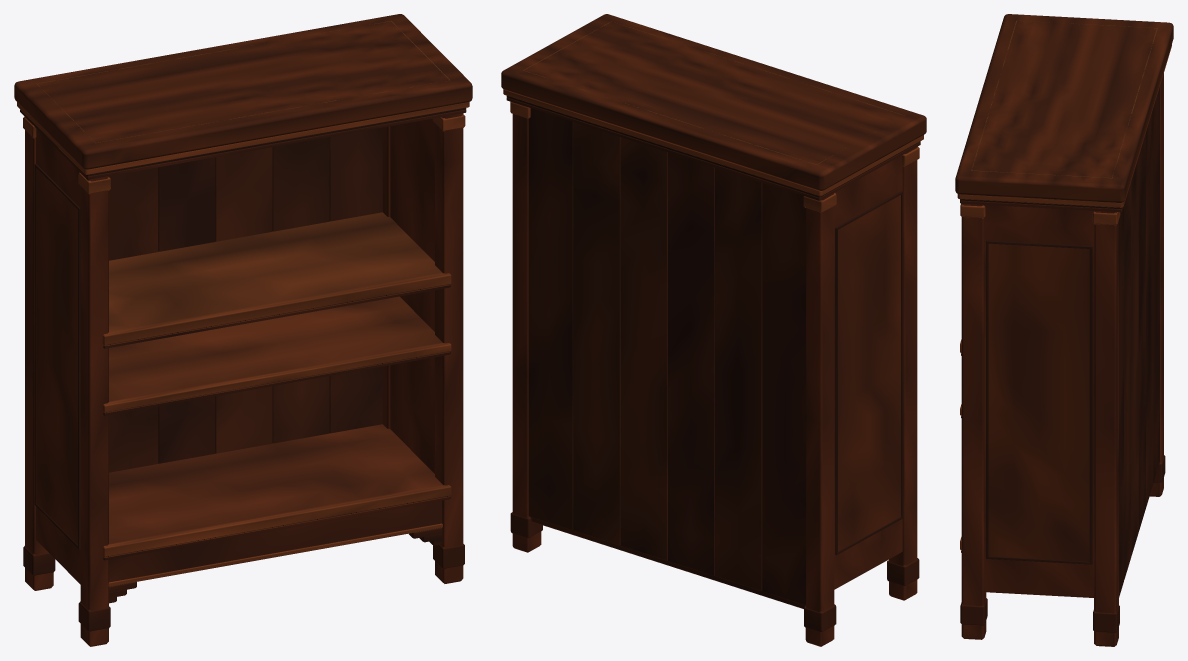
The model's file is SM_BunkerStudyBookcase.fbx.
3 renders of one model, left to right at view 1: azimuth 30°, elevation 25°; view 2: azimuth 150°, elevation 25°; view 3: azimuth 270°, elevation 25°, orthographic. The views are drawn at different scales.
Visible parts, largest first — view 1: SM_BunkerStudyBookcase; view 2: SM_BunkerStudyBookcase; view 3: SM_BunkerStudyBookcase.
Part boxes in pixels (x1,y1,x2,y2): SM_BunkerStudyBookcase: (14,14,472,646); SM_BunkerStudyBookcase: (501,14,926,646); SM_BunkerStudyBookcase: (955,14,1173,646).
Size of what is drawn, in the model's own units: 47.38 by 25.16 by 59.15.
